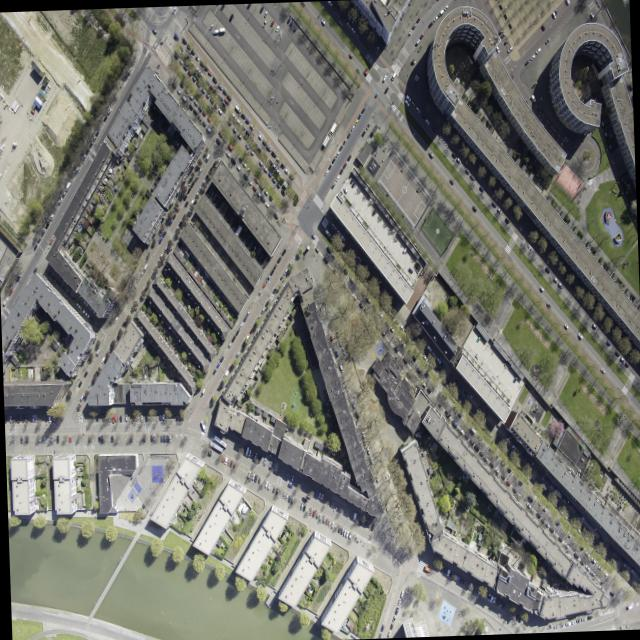large-vehicle: (212, 434, 226, 447), (208, 439, 222, 451), (222, 95, 229, 104), (423, 564, 430, 571), (227, 142, 232, 149)
small-vehicle: (199, 418, 205, 431), (63, 180, 70, 190), (468, 424, 475, 433), (457, 425, 464, 434), (94, 346, 100, 356), (1, 295, 7, 305), (626, 601, 633, 609), (443, 408, 449, 417), (264, 273, 270, 282), (234, 103, 240, 112), (203, 152, 209, 161), (222, 368, 228, 377), (141, 262, 147, 271), (390, 70, 395, 80), (576, 331, 582, 339), (452, 378, 458, 386), (437, 8, 443, 16), (404, 93, 410, 101), (336, 18, 342, 26), (341, 280, 347, 288), (364, 294, 370, 302), (235, 117, 241, 125), (229, 156, 235, 164), (172, 32, 178, 40), (181, 62, 187, 70), (180, 93, 186, 101), (506, 44, 512, 52), (529, 93, 535, 101), (490, 199, 496, 207), (43, 220, 48, 229), (240, 338, 245, 347), (227, 12, 232, 21), (182, 191, 187, 200), (78, 392, 83, 401), (494, 43, 499, 52), (565, 530, 571, 537), (601, 568, 607, 575), (421, 353, 427, 360), (419, 379, 425, 386), (451, 419, 457, 426), (344, 20, 350, 27), (468, 172, 474, 179), (395, 334, 401, 341), (257, 182, 263, 189), (261, 164, 267, 171), (266, 158, 272, 165), (216, 93, 222, 100), (534, 46, 540, 53), (198, 59, 204, 66), (261, 151, 267, 158), (526, 495, 532, 502), (534, 511, 540, 518), (550, 10, 555, 18), (425, 343, 430, 351), (435, 355, 440, 363), (473, 443, 478, 451), (7, 287, 12, 295), (265, 143, 270, 151), (467, 581, 472, 589), (339, 13, 344, 21), (381, 73, 386, 81), (383, 85, 388, 93), (322, 255, 327, 263), (330, 251, 335, 259), (338, 363, 343, 371), (353, 409, 358, 417), (359, 430, 364, 438), (261, 19, 266, 27), (351, 511, 356, 519), (330, 155, 335, 163), (393, 605, 398, 613), (276, 254, 281, 262), (271, 285, 276, 293), (282, 266, 287, 274), (244, 445, 248, 455), (286, 260, 291, 268), (263, 298, 268, 306), (253, 175, 258, 183), (259, 194, 264, 202), (270, 149, 275, 157), (224, 149, 229, 157), (211, 159, 216, 167), (283, 166, 288, 174), (173, 51, 178, 59), (196, 103, 201, 111), (234, 349, 239, 357), (219, 376, 224, 384), (218, 354, 223, 362), (208, 395, 213, 403), (162, 244, 167, 252), (248, 325, 253, 333), (231, 111, 236, 119), (189, 179, 194, 187), (193, 173, 198, 181), (203, 172, 208, 180), (207, 165, 212, 173), (230, 333, 235, 341), (225, 92, 230, 100), (181, 36, 186, 44), (113, 314, 118, 322), (76, 379, 81, 387), (47, 236, 52, 244), (31, 265, 36, 273), (15, 272, 20, 280), (195, 79, 200, 87), (540, 488, 545, 496), (57, 196, 62, 204), (369, 521, 373, 530), (395, 508, 401, 514), (262, 456, 266, 465), (300, 495, 306, 501), (252, 318, 256, 327), (516, 478, 522, 484), (553, 518, 559, 524), (557, 280, 562, 287), (614, 349, 619, 356), (619, 355, 624, 362), (599, 366, 604, 373), (324, 228, 329, 235), (448, 372, 453, 379), (608, 589, 613, 596), (574, 511, 579, 518), (427, 20, 432, 27), (400, 339, 405, 346), (572, 551, 577, 558), (442, 3, 447, 10), (415, 15, 420, 22), (584, 563, 589, 570), (411, 21, 416, 28), (418, 31, 423, 38), (414, 37, 419, 44), (403, 98, 408, 105), (401, 356, 406, 363), (439, 361, 444, 368), (428, 361, 433, 368), (423, 369, 428, 376), (589, 569, 594, 576), (330, 221, 335, 228), (464, 167, 469, 174), (450, 150, 455, 157), (478, 184, 483, 191), (427, 150, 432, 157), (431, 126, 436, 133), (414, 105, 419, 112), (339, 233, 344, 240), (320, 17, 325, 24), (354, 66, 359, 73), (325, 245, 330, 252), (342, 267, 347, 274), (355, 254, 360, 261), (360, 259, 365, 266), (365, 266, 370, 273), (348, 274, 353, 281), (351, 292, 356, 299), (471, 204, 476, 211), (409, 99, 414, 106), (349, 123, 354, 130), (274, 24, 279, 31), (345, 130, 350, 137), (334, 149, 339, 156), (334, 173, 339, 180), (341, 161, 346, 168), (350, 179, 355, 186), (364, 121, 369, 128), (262, 9, 267, 16), (257, 144, 262, 151), (259, 306, 264, 313), (268, 267, 273, 274), (280, 247, 285, 254), (362, 307, 367, 314), (258, 5, 263, 12), (236, 131, 241, 138), (244, 128, 249, 135), (248, 122, 253, 129), (248, 134, 253, 141), (261, 138, 266, 145), (255, 189, 260, 196), (262, 188, 267, 195), (242, 172, 247, 179), (257, 158, 262, 165), (200, 119, 205, 126), (205, 125, 210, 132), (208, 96, 213, 103), (151, 26, 156, 33), (235, 163, 240, 170), (208, 22, 213, 29), (271, 162, 276, 169), (279, 161, 284, 168), (217, 82, 222, 89), (211, 75, 216, 82), (189, 59, 194, 66), (200, 85, 205, 92), (191, 107, 196, 114), (192, 98, 197, 105), (138, 269, 143, 276), (272, 211, 277, 218), (279, 187, 284, 194), (270, 175, 275, 182), (214, 136, 219, 143), (237, 321, 242, 328), (398, 323, 403, 330), (167, 218, 172, 225), (173, 225, 178, 232), (180, 212, 185, 219), (193, 190, 198, 197), (196, 184, 201, 191), (212, 88, 217, 95), (120, 319, 125, 326), (94, 127, 99, 134), (102, 113, 107, 120), (39, 228, 44, 235), (84, 146, 89, 153), (88, 315, 93, 322), (523, 58, 528, 65), (552, 275, 557, 282), (544, 266, 549, 273), (504, 216, 509, 223), (522, 97, 527, 104), (529, 53, 534, 60), (545, 301, 550, 308), (538, 284, 543, 291), (83, 310, 88, 317), (170, 81, 175, 88), (194, 65, 199, 72), (186, 68, 191, 75), (91, 308, 96, 315), (504, 435, 509, 442), (540, 482, 545, 489), (515, 461, 520, 468), (48, 212, 53, 219), (563, 541, 568, 548), (525, 501, 530, 508), (537, 104, 542, 111), (558, 508, 563, 515), (60, 190, 65, 197), (445, 567, 449, 575), (486, 592, 490, 600), (364, 518, 368, 526), (339, 525, 343, 533), (329, 520, 333, 528), (374, 474, 378, 482), (344, 529, 348, 537), (379, 623, 383, 631), (399, 589, 403, 597), (286, 14, 290, 22), (289, 495, 293, 503), (289, 473, 293, 481), (252, 451, 256, 459), (247, 448, 251, 456), (317, 512, 321, 520), (310, 509, 314, 517), (308, 507, 312, 515), (298, 501, 302, 509), (286, 494, 290, 502), (274, 486, 278, 494), (246, 469, 250, 477), (171, 5, 175, 13), (223, 455, 227, 463), (74, 165, 78, 173), (197, 166, 201, 174), (106, 106, 110, 114), (231, 460, 235, 468), (228, 459, 232, 467), (123, 412, 127, 420), (501, 601, 505, 609), (605, 339, 610, 345), (597, 536, 602, 542), (597, 564, 602, 570), (564, 501, 569, 507), (607, 546, 612, 552), (612, 558, 617, 564), (584, 550, 589, 556), (629, 567, 634, 573), (590, 556, 595, 562), (407, 266, 412, 272), (432, 15, 437, 21), (430, 350, 435, 356), (415, 366, 420, 372), (425, 386, 430, 392), (401, 246, 406, 252), (468, 438, 473, 444), (463, 432, 468, 438), (451, 405, 456, 411), (65, 291, 70, 297), (455, 156, 460, 162), (441, 392, 446, 398), (476, 405, 481, 411), (335, 228, 340, 234), (349, 26, 354, 32), (347, 51, 352, 57), (378, 283, 383, 289), (448, 177, 453, 183), (55, 280, 60, 286), (388, 325, 393, 331), (392, 345, 397, 351), (391, 300, 396, 306), (377, 311, 382, 317), (287, 481, 292, 487), (240, 112, 245, 118), (244, 142, 249, 148), (251, 184, 256, 190), (241, 160, 246, 166), (204, 91, 209, 97), (204, 78, 209, 84), (206, 69, 211, 75), (185, 43, 190, 49), (189, 48, 194, 54), (175, 87, 180, 93), (187, 103, 192, 109), (212, 28, 218, 33), (196, 114, 201, 120), (221, 88, 226, 94), (190, 74, 195, 80), (82, 299, 87, 305), (87, 304, 92, 310), (505, 465, 510, 471), (499, 473, 504, 479), (493, 466, 498, 472), (511, 486, 516, 492), (69, 296, 74, 302), (82, 370, 87, 376), (178, 80, 183, 86), (544, 37, 549, 43), (520, 453, 525, 459), (510, 442, 515, 448), (548, 525, 553, 531), (488, 461, 493, 467), (536, 499, 541, 505), (553, 623, 559, 628), (564, 620, 570, 625), (538, 120, 543, 126), (383, 303, 387, 310), (411, 353, 415, 360), (407, 27, 411, 34), (347, 531, 351, 538), (337, 338, 341, 345), (336, 525, 340, 532), (326, 519, 330, 526), (382, 498, 386, 505), (356, 111, 360, 118), (391, 614, 395, 621), (386, 629, 390, 636), (360, 105, 364, 112), (341, 137, 345, 144), (353, 117, 357, 124), (327, 162, 331, 169), (323, 168, 327, 175), (330, 181, 334, 188), (338, 167, 342, 174), (346, 153, 350, 160), (342, 186, 346, 193), (349, 176, 353, 183), (371, 207, 375, 214), (360, 129, 364, 136), (288, 18, 292, 25), (269, 18, 273, 25), (256, 312, 260, 319), (242, 314, 246, 321), (257, 288, 261, 295), (310, 231, 314, 238), (267, 460, 271, 467), (256, 455, 260, 462), (314, 511, 318, 518), (301, 504, 305, 511), (256, 476, 260, 483), (250, 472, 254, 479), (264, 200, 268, 207), (247, 178, 251, 185), (246, 166, 250, 173), (199, 71, 203, 78), (183, 86, 187, 93), (178, 57, 182, 64), (188, 92, 192, 99), (178, 44, 182, 51), (275, 167, 279, 174), (217, 107, 221, 114), (194, 53, 198, 60), (211, 367, 215, 374), (157, 236, 161, 243), (244, 333, 248, 340), (589, 11, 593, 18), (161, 229, 165, 236), (171, 212, 175, 219), (186, 186, 190, 193), (177, 219, 181, 226), (183, 199, 187, 206), (189, 198, 193, 205), (200, 178, 204, 185), (100, 355, 104, 362), (104, 349, 108, 356), (81, 152, 85, 159), (32, 242, 36, 249), (88, 140, 92, 147), (91, 134, 95, 141), (512, 375, 516, 382), (488, 594, 492, 601), (491, 595, 495, 602), (498, 600, 502, 607), (586, 614, 591, 619), (462, 390, 467, 395), (397, 513, 402, 518), (392, 497, 397, 502), (384, 473, 389, 478), (305, 493, 310, 498), (212, 102, 217, 107), (46, 271, 51, 276), (541, 505, 546, 510), (591, 322, 595, 328), (563, 322, 567, 328), (578, 543, 582, 549), (580, 616, 586, 620), (417, 333, 421, 339), (444, 382, 448, 388), (579, 558, 583, 564), (362, 68, 366, 74), (440, 564, 443, 572), (478, 449, 482, 455), (249, 148, 253, 154), (424, 117, 428, 123), (420, 112, 424, 118), (476, 586, 479, 594), (344, 239, 348, 245), (331, 4, 335, 10), (341, 250, 345, 256), (358, 301, 362, 307), (394, 318, 398, 324), (380, 329, 384, 335), (369, 455, 372, 463), (351, 400, 354, 408), (379, 455, 383, 461), (396, 598, 400, 604), (389, 621, 392, 629), (338, 144, 342, 150), (292, 24, 296, 30), (245, 309, 249, 315), (261, 281, 265, 287), (272, 262, 276, 268), (314, 245, 318, 251), (279, 273, 283, 279), (388, 310, 392, 316), (250, 449, 253, 457), (284, 491, 287, 499), (264, 479, 267, 487), (253, 473, 256, 481), (240, 124, 244, 130), (244, 117, 248, 123), (257, 133, 261, 139), (253, 140, 257, 146), (51, 275, 55, 281), (267, 194, 271, 200), (267, 170, 271, 176), (221, 135, 225, 141), (237, 155, 241, 161), (208, 83, 212, 89), (201, 109, 205, 115), (275, 181, 279, 187), (227, 363, 231, 369), (215, 361, 219, 367), (226, 341, 230, 347), (234, 328, 238, 334), (158, 252, 162, 258), (215, 384, 219, 390), (175, 206, 179, 212), (226, 119, 230, 125), (231, 125, 235, 131), (206, 115, 210, 121), (221, 99, 225, 105), (86, 381, 90, 387), (19, 434, 22, 442), (99, 434, 102, 442), (75, 301, 79, 307), (36, 235, 40, 241), (113, 413, 116, 421), (15, 414, 18, 422), (55, 434, 58, 442), (50, 434, 53, 442), (505, 479, 509, 485), (512, 473, 516, 479), (496, 206, 500, 212), (561, 497, 565, 503), (540, 23, 544, 29), (503, 37, 507, 43), (500, 31, 504, 37), (557, 535, 561, 541), (540, 516, 544, 522), (544, 520, 548, 526), (496, 598, 499, 606), (558, 622, 564, 626), (563, 513, 567, 519), (342, 528, 345, 535), (448, 569, 451, 576), (458, 576, 461, 583), (455, 574, 458, 581), (461, 576, 464, 583), (443, 566, 446, 573), (329, 333, 332, 340), (334, 349, 337, 356), (362, 517, 365, 524), (385, 505, 388, 512), (317, 490, 320, 497), (314, 488, 317, 495), (321, 515, 324, 522), (324, 517, 327, 524), (281, 490, 284, 497), (271, 485, 274, 492), (266, 482, 269, 489), (220, 454, 223, 461), (174, 412, 177, 419), (226, 458, 229, 465), (143, 413, 146, 420), (131, 413, 134, 420), (24, 435, 27, 442), (159, 434, 162, 441), (141, 434, 144, 441), (118, 414, 121, 421), (515, 613, 518, 620), (518, 614, 521, 621), (584, 536, 588, 541), (575, 618, 580, 622), (458, 385, 462, 390), (577, 528, 581, 533), (624, 361, 628, 366), (410, 339, 414, 344), (437, 401, 441, 406), (457, 411, 461, 416), (60, 286, 64, 291), (275, 156, 279, 161), (203, 65, 207, 70), (526, 460, 530, 465), (498, 28, 502, 33), (493, 437, 497, 442), (374, 90, 377, 96), (366, 447, 369, 453), (319, 492, 322, 498), (37, 435, 40, 441), (162, 433, 164, 442), (109, 435, 112, 441), (47, 415, 50, 421), (11, 436, 14, 442), (565, 0, 569, 4), (570, 619, 574, 623), (165, 433, 167, 441), (139, 413, 141, 421), (152, 433, 154, 441), (149, 433, 151, 441), (101, 412, 103, 420), (111, 414, 113, 422), (34, 413, 36, 421), (31, 413, 33, 421), (24, 413, 26, 421), (11, 414, 13, 422), (8, 414, 10, 422), (637, 576, 640, 581), (168, 433, 170, 440), (161, 412, 163, 419), (129, 434, 131, 441), (50, 415, 52, 422), (21, 414, 23, 421), (42, 435, 44, 442), (180, 413, 182, 419), (158, 414, 160, 420), (97, 435, 99, 441), (87, 435, 89, 441), (95, 414, 97, 420), (68, 435, 70, 441), (178, 413, 179, 419)
